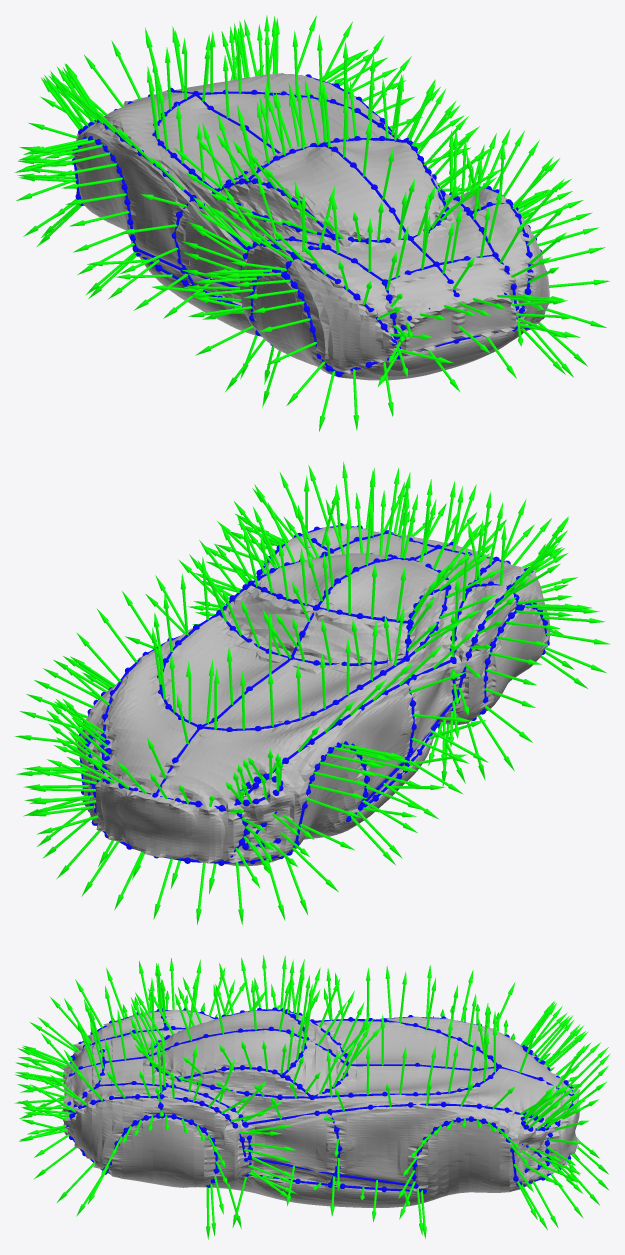
Rendered from ils_roadster.gltf.
3 renders of one model, top to bottom at view 1: azimuth 30°, elevation 25°; view 2: azimuth 150°, elevation 25°; view 3: azimuth 270°, elevation 25°, orthographic. The views are drawn at different scales.
Size of the model in its own units: 0.5898 by 0.4222 by 1.05.
